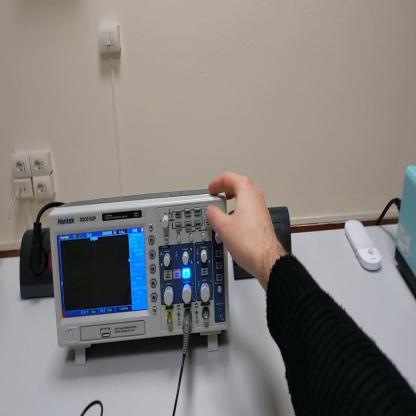hand: (210, 171, 282, 294)
oscilloscope: (45, 190, 232, 370)
socket: (20, 226, 53, 300)
welder station: (397, 167, 415, 298)
